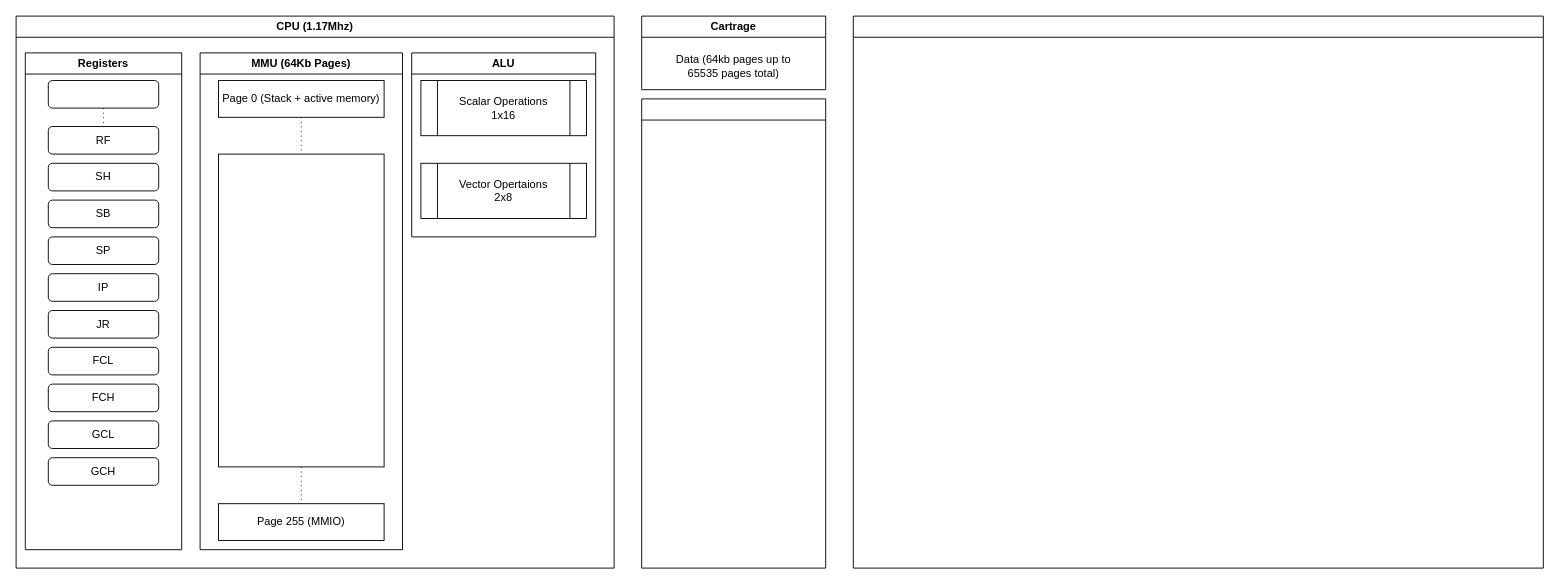
The diagram is 1559 pixels wide and 584 high, and some of its shapes have lost their labels. Each missing label, with the centre of its shape:
"APU" goes at point 733,333.
"GPU" goes at point 1197,291.
"Page 1..254 Lazily loaded / mapped" goes at point 301,310.
"R0" goes at point 103,94.
